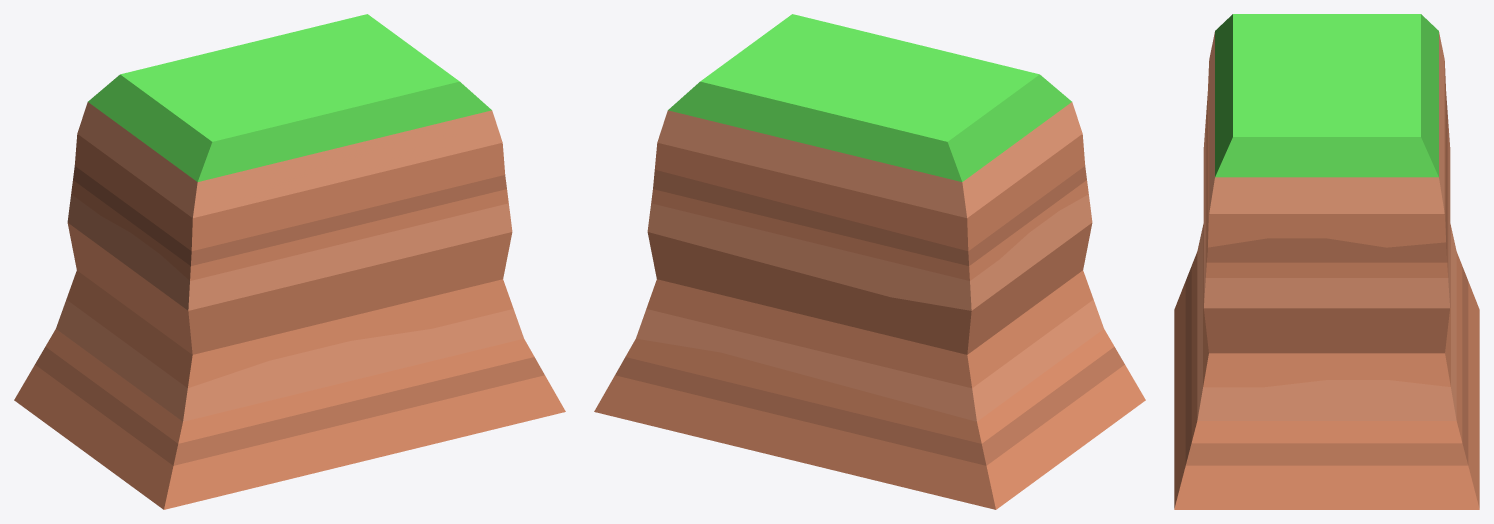
File: StoneWall003.fbx
3 views of the same model, side by side, from view 1: azimuth 30°, elevation 25°; view 2: azimuth 150°, elevation 25°; view 3: azimuth 270°, elevation 25° (orthographic).
Parts seen in each view (by area): view 1: StoneWall003; view 2: StoneWall003; view 3: StoneWall003.
Part boxes in pixels (x1,y1,x2,y2): StoneWall003: (14,14,565,509); StoneWall003: (594,14,1145,509); StoneWall003: (1174,14,1479,509).
Bounding box in the file's own units: 537 × 418 × 347.
